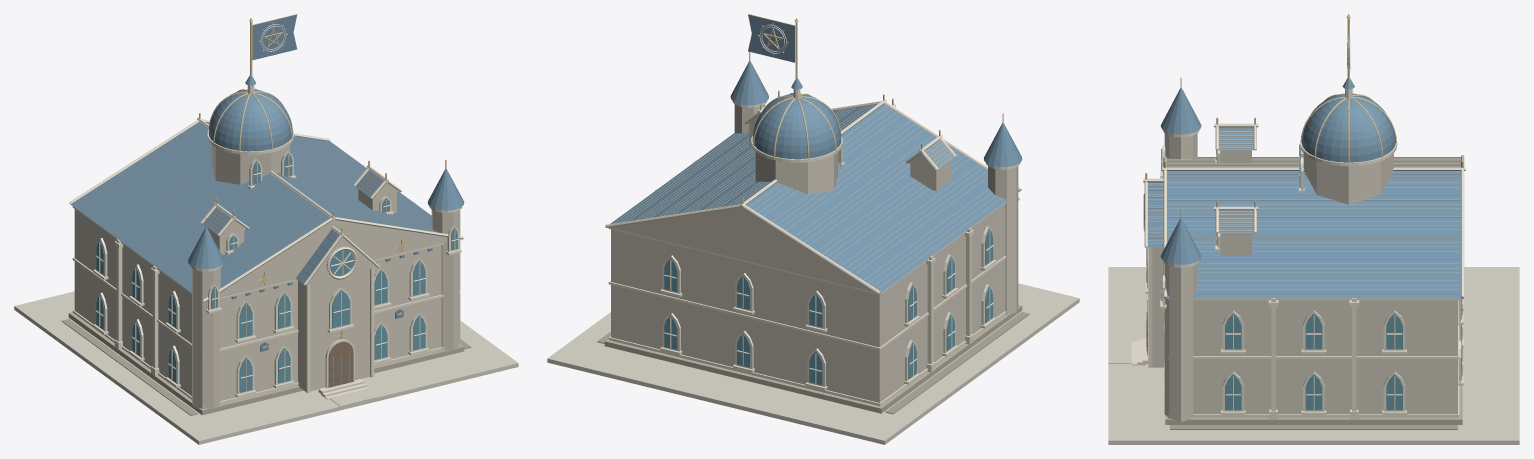
Rendered from ArcaneAcademy_Lv4.fbx.
The picture shows the model from 3 angles, left to right: view 1: azimuth 30°, elevation 25°; view 2: azimuth 150°, elevation 25°; view 3: azimuth 270°, elevation 25°; orthographic projection. The views are drawn at different scales.
Visible parts, largest first — view 1: Roof surfaces.015, Main school walls.015, Fixed 26m plot.015, Corner turret.002, Window glass.015, Gable infill.010, Roof courses.010, Projecting entrance bay.015, Window frame.015, Blue central dome.004, School foundation.015, Gable verge.010 (+14 smaller); view 2: Main school walls.015, Roof surfaces.015, Fixed 26m plot.015, Gable infill.010, Roof courses.010, Blue central dome.004, Window glass.015, Stone stringcourse.015, School foundation.015, Window frame.015, Corner turret.002, Octagonal observatory drum.004 (+10 smaller); view 3: Roof surfaces.015, Main school walls.015, Fixed 26m plot.015, Roof courses.010, Corner turret.002, Blue central dome.004, Window glass.015, Octagonal observatory drum.004, Stone stringcourse.015, School foundation.015, Window frame.015, Turret spire.002 (+13 smaller).
Part boxes in pixels (x1=…): Roof surfaces.015: x1=70, y1=122, x2=438, y2=300; Main school walls.015: x1=74, y1=209, x2=441, y2=403; Fixed 26m plot.015: x1=14, y1=291, x2=518, y2=444; Corner turret.002: x1=192, y1=210, x2=460, y2=408; Window glass.015: x1=96, y1=153, x2=457, y2=392; Gable infill.010: x1=219, y1=182, x2=447, y2=297; Roof courses.010: x1=75, y1=122, x2=433, y2=286; Projecting entrance bay.015: x1=298, y1=269, x2=369, y2=391; Window frame.015: x1=95, y1=150, x2=459, y2=394; Blue central dome.004: x1=208, y1=89, x2=292, y2=151; School foundation.015: x1=68, y1=312, x2=464, y2=415; Gable verge.010: x1=69, y1=119, x2=463, y2=302; Main school walls.015: x1=611, y1=204, x2=1004, y2=405; Roof surfaces.015: x1=610, y1=104, x2=1019, y2=293; Fixed 26m plot.015: x1=547, y1=283, x2=1079, y2=444; Gable infill.010: x1=610, y1=114, x2=1019, y2=292; Roof courses.010: x1=614, y1=104, x2=1002, y2=288; Blue central dome.004: x1=752, y1=93, x2=841, y2=159; Window glass.015: x1=664, y1=229, x2=993, y2=385; Stone stringcourse.015: x1=608, y1=201, x2=1006, y2=405; School foundation.015: x1=604, y1=304, x2=1022, y2=413; Window frame.015: x1=662, y1=146, x2=993, y2=386; Corner turret.002: x1=734, y1=104, x2=1018, y2=314; Octagonal observatory drum.004: x1=755, y1=152, x2=838, y2=194; Roof surfaces.015: x1=1146, y1=127, x2=1462, y2=298; Main school walls.015: x1=1193, y1=300, x2=1457, y2=417; Fixed 26m plot.015: x1=1108, y1=267, x2=1519, y2=444; Roof courses.010: x1=1148, y1=128, x2=1460, y2=293; Corner turret.002: x1=1164, y1=133, x2=1197, y2=421; Blue central dome.004: x1=1302, y1=93, x2=1395, y2=162; Window glass.015: x1=1147, y1=146, x2=1461, y2=410; Octagonal observatory drum.004: x1=1303, y1=153, x2=1393, y2=204; Stone stringcourse.015: x1=1168, y1=298, x2=1459, y2=417; School foundation.015: x1=1165, y1=311, x2=1462, y2=424; Window frame.015: x1=1163, y1=145, x2=1460, y2=411; Turret spire.002: x1=1160, y1=88, x2=1201, y2=264.
Bounding box in the file's own units: 26 × 24.01 × 26.
